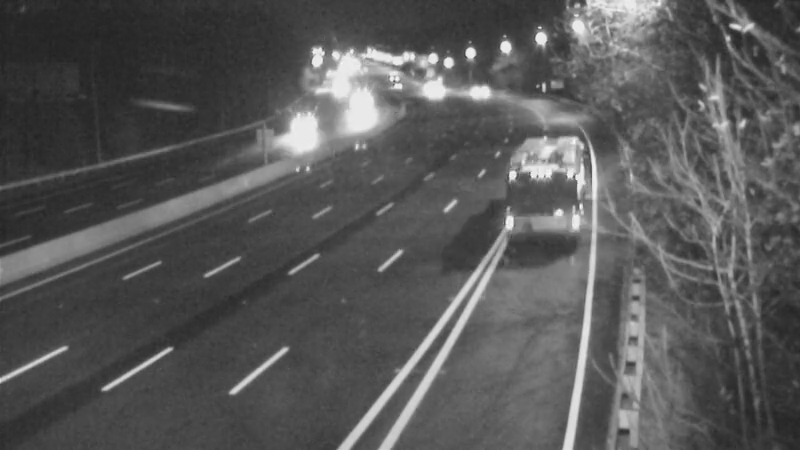vehicle: (502, 152, 582, 232), (367, 50, 417, 100), (403, 55, 453, 105), (405, 65, 455, 115), (456, 67, 506, 117), (407, 61, 457, 111), (279, 92, 329, 142), (333, 78, 383, 128), (311, 59, 361, 109)
